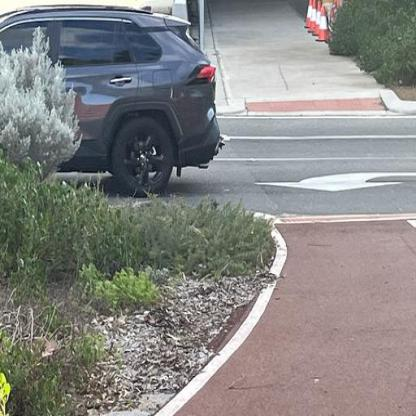Tire: (110, 116, 176, 198)
